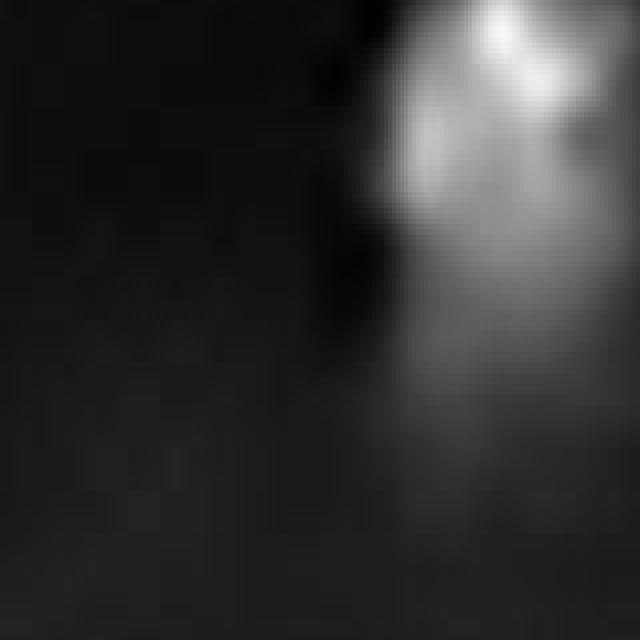person: (381, 1, 640, 486)
